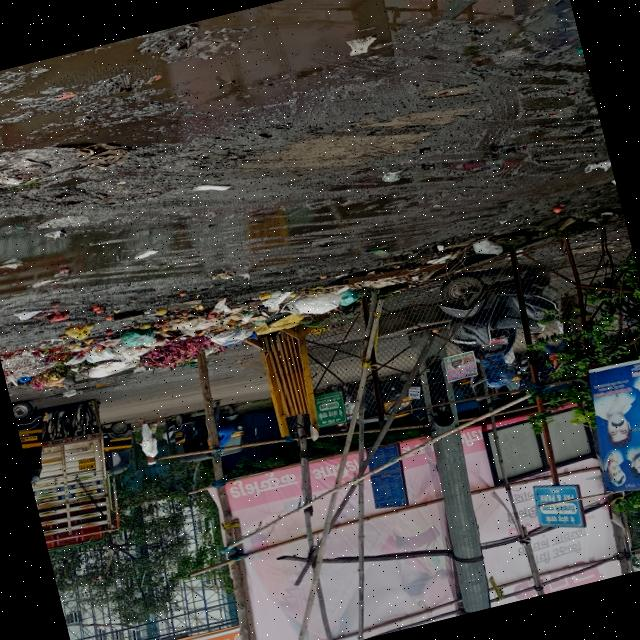garbage: (0, 238, 445, 411)
